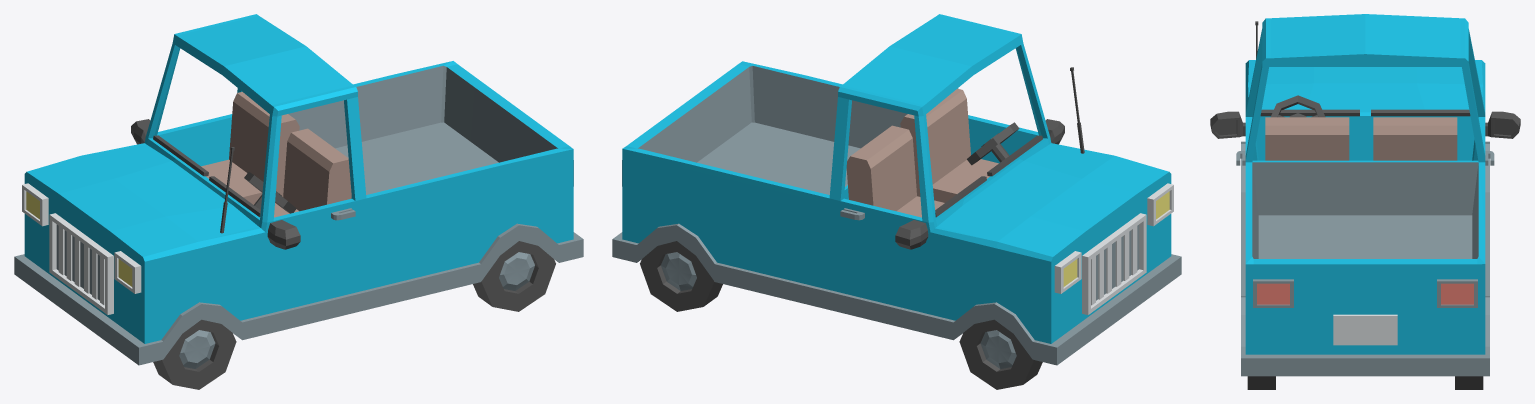
Rendered from truck_02.gltf.
The picture shows the model from 3 angles, left to right: view 1: azimuth 30°, elevation 25°; view 2: azimuth 150°, elevation 25°; view 3: azimuth 270°, elevation 25°; orthographic projection.
Visible parts, largest first — view 1: node-0; view 2: node-0; view 3: node-0.
Boxes of the visible parts, x1,y1,x2,y2 form: node-0: (14,14,583,389); node-0: (612,14,1181,389); node-0: (1210,14,1520,389).
Size of the model in its own units: 353 by 197 by 213.
